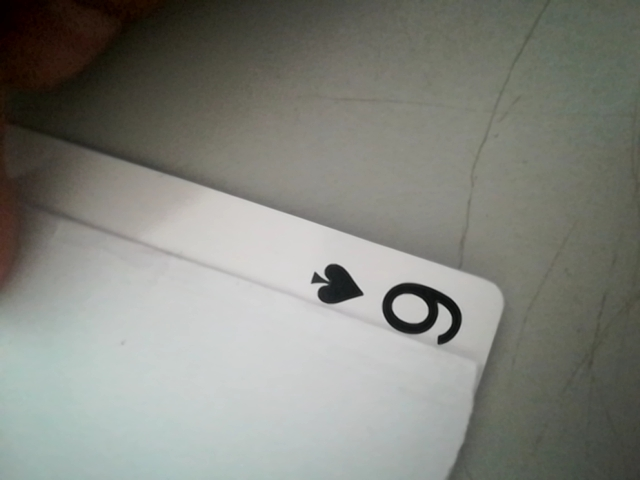ht 6: (294, 260, 482, 354)
